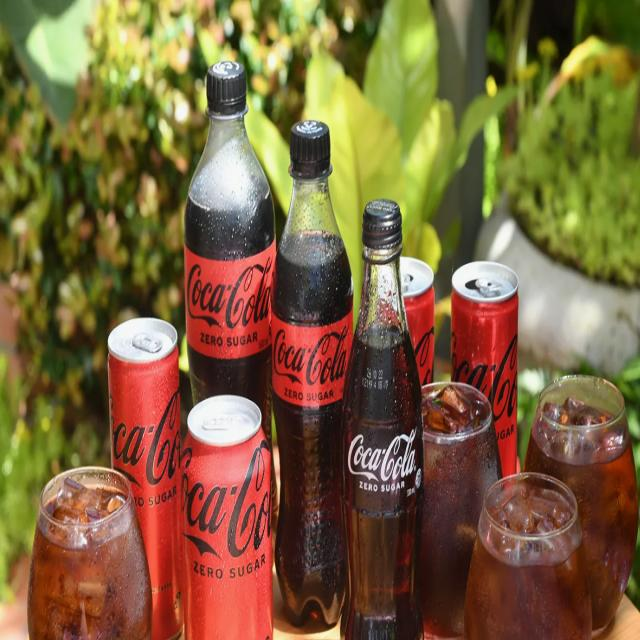supermarket-product: (272, 307, 351, 406)
